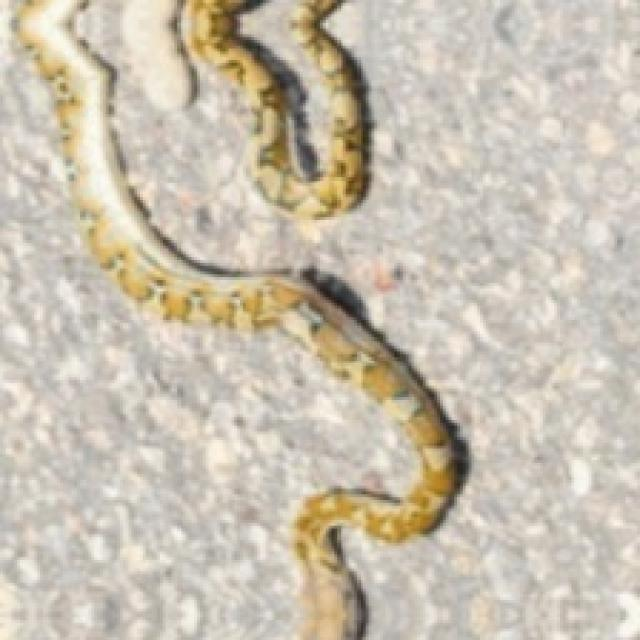reticulated python: (14, 0, 466, 637), (188, 0, 368, 217)
